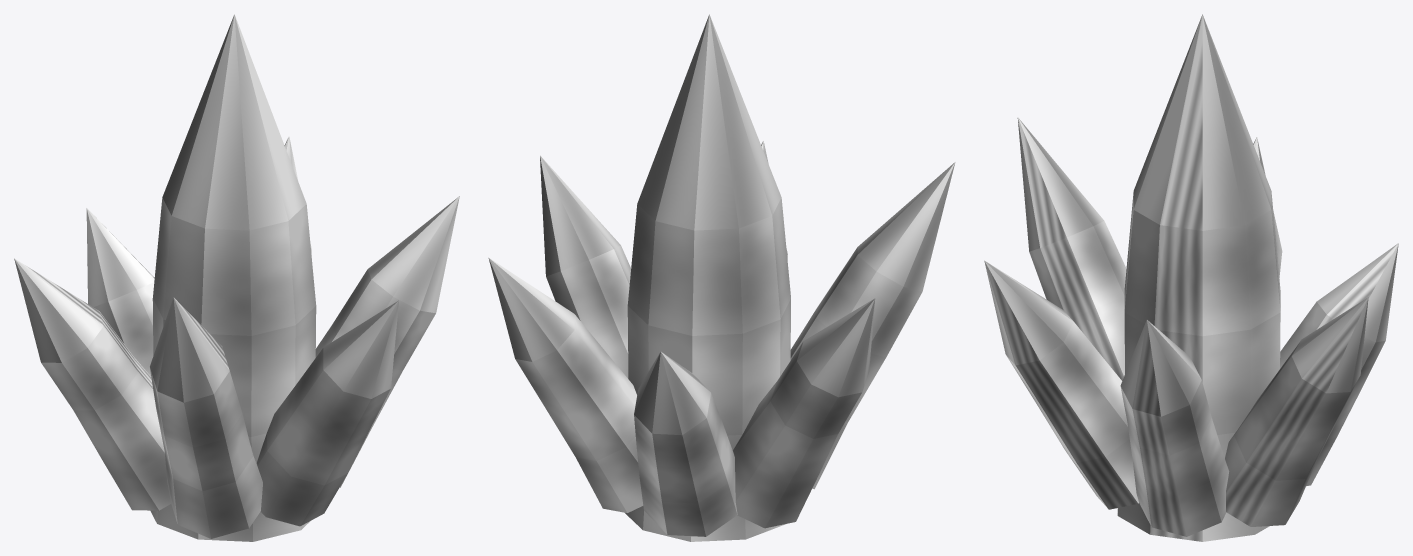
File: earth-master.glb
3 views of the same model, side by side, from view 1: azimuth 30°, elevation 25°; view 2: azimuth 150°, elevation 25°; view 3: azimuth 270°, elevation 25° (orthographic).
Visible parts, largest first — view 1: earth-master; view 2: earth-master; view 3: earth-master.
Part boxes in pixels (x1,y1,x2,y2): earth-master: (14,14,459,541); earth-master: (488,14,955,541); earth-master: (984,14,1398,541).
Bounding box in the file's own units: 0.2831 × 0.34 × 0.2606.
1 material, 1 textured.
